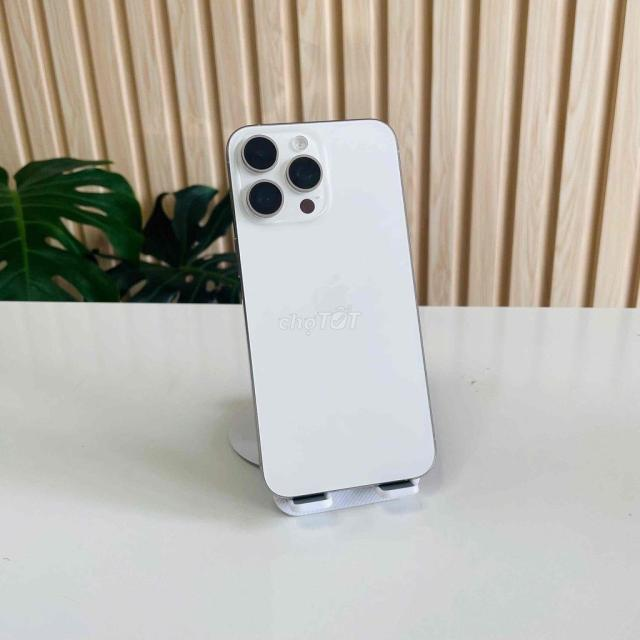gen_15: (215, 120, 436, 508)
